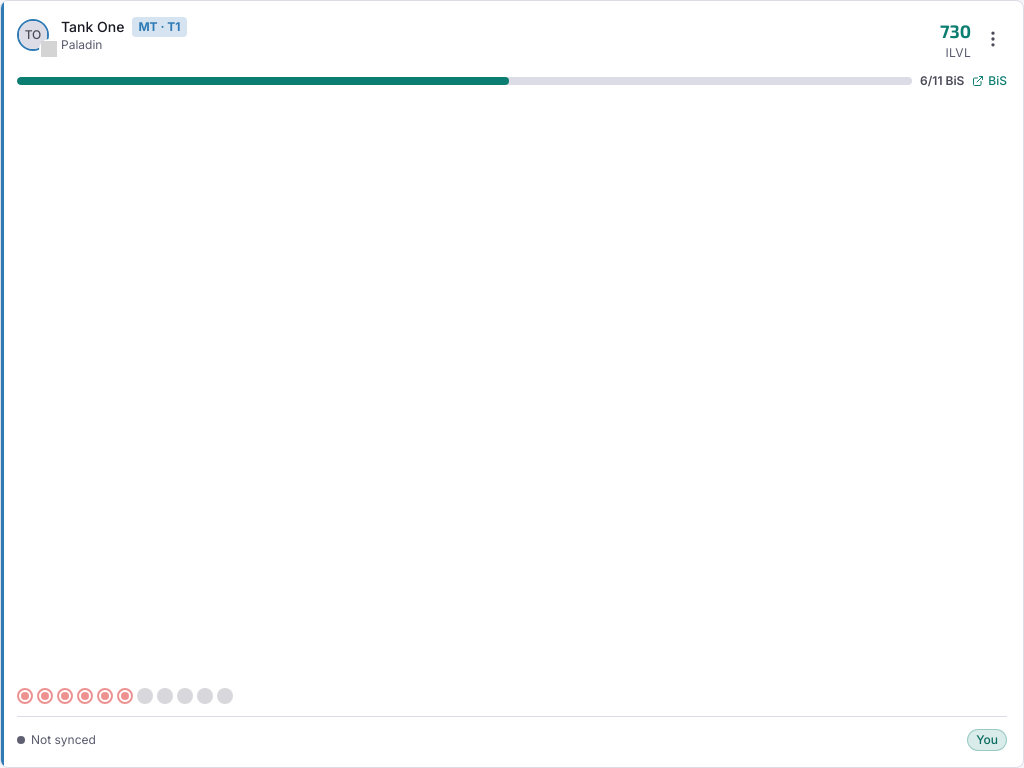
Test: RosterCard — C5 metrics · badges · identity › now-vs-BiS metrics (D-10) › opens the breakdown from keyboard focus (PR review round 4)
The image size is (1024, 768).
Focus the text "average item level breakdown": (955, 39) [940,17,971,61]
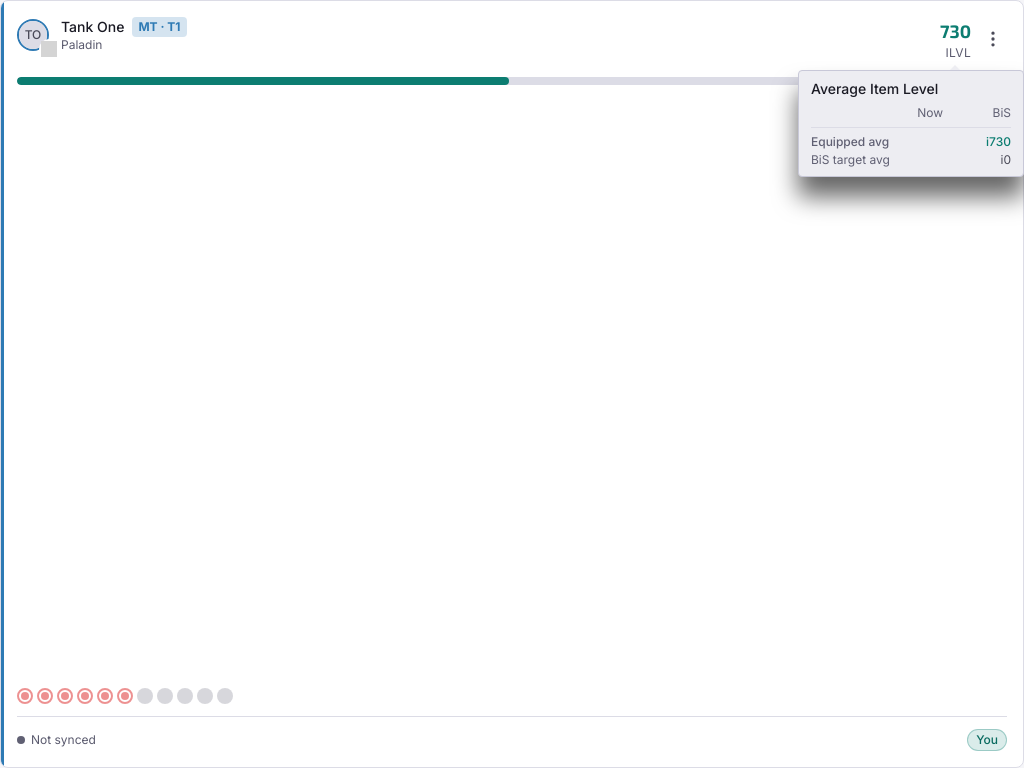
Now the text "Average Item Level" is shown, box [811,80,938,97]
